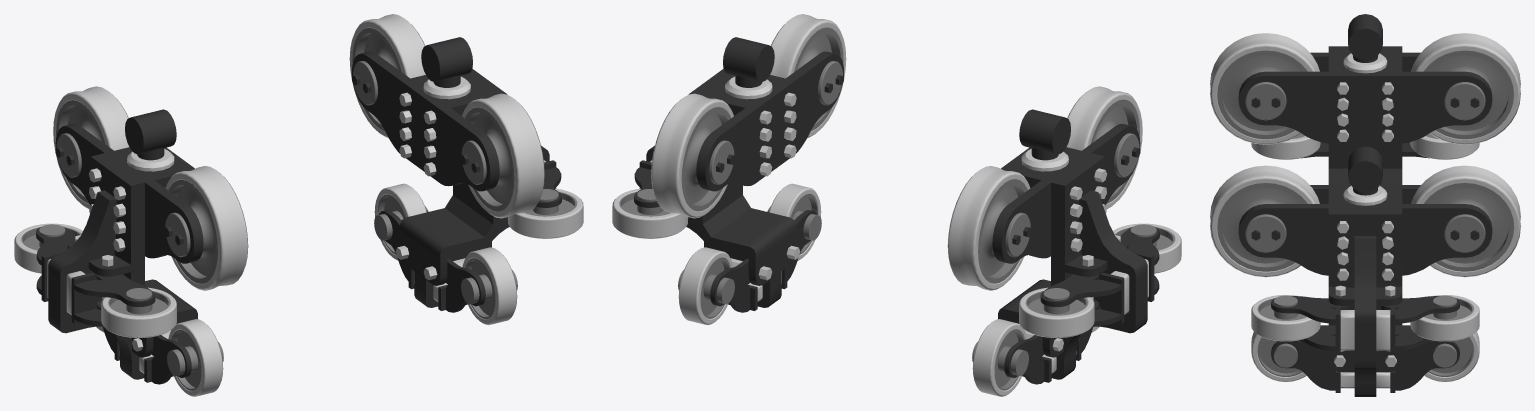
File: rear_bogie.glb
The picture shows the model from 3 angles, left to right: view 1: azimuth 30°, elevation 25°; view 2: azimuth 150°, elevation 25°; view 3: azimuth 270°, elevation 25°; orthographic projection. The views are drawn at different scales.
Parts seen in each view (by area): view 1: BogieRear; view 2: BogieRear; view 3: BogieRear.
Part boxes in pixels (bbox=[...]): BogieRear: bbox=[14, 14, 583, 396]; BogieRear: bbox=[612, 14, 1181, 396]; BogieRear: bbox=[1210, 14, 1520, 396].
Bounding box in the file's own units: 2.08 × 1.04 × 1.25.
1 material, 1 textured.
